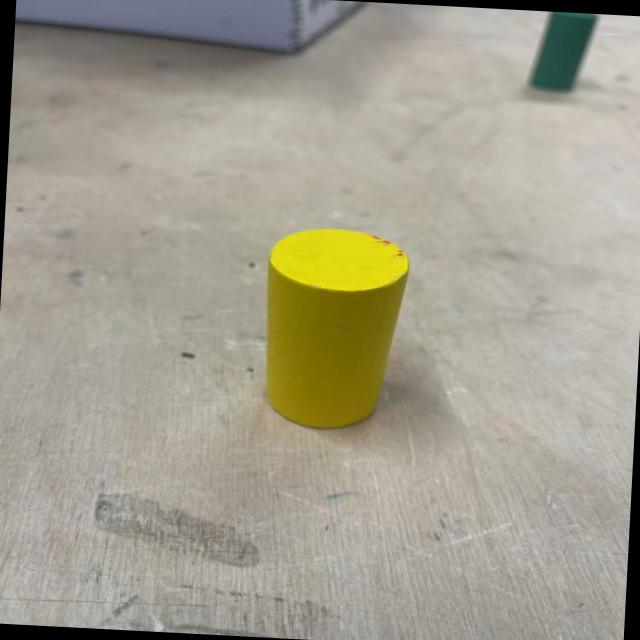yellow_cylinder: (257, 222, 414, 436)
